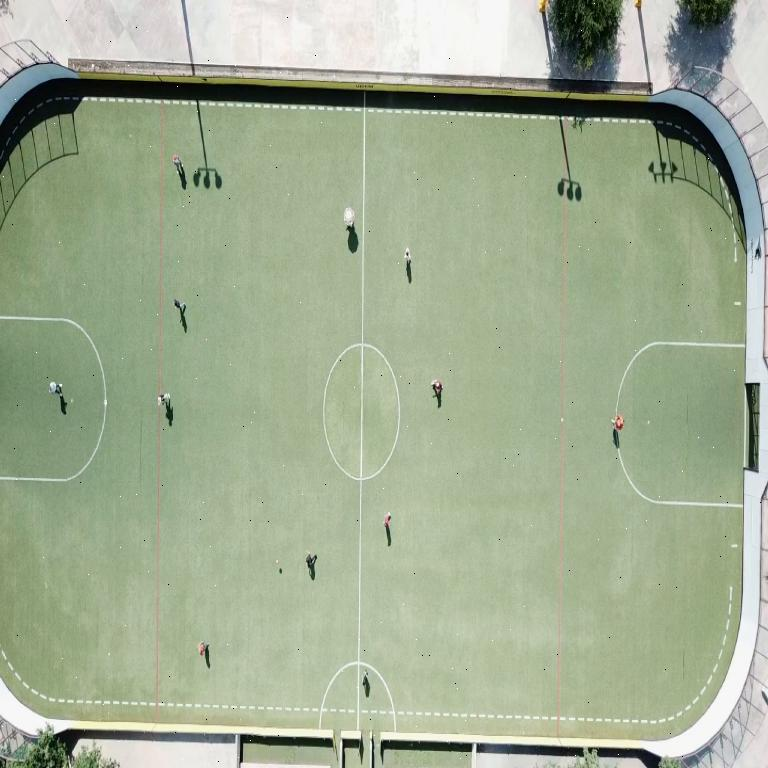AC: (0, 316, 106, 482), (615, 342, 744, 413)
B: (275, 559, 279, 564)
MC: (356, 93, 364, 728)
P: (344, 206, 355, 229), (173, 154, 184, 175), (306, 551, 317, 568), (612, 414, 623, 430), (158, 393, 170, 407), (362, 670, 369, 694), (174, 299, 185, 313), (432, 379, 442, 394), (383, 513, 392, 529), (50, 383, 62, 395), (198, 642, 208, 655), (404, 248, 411, 265)
